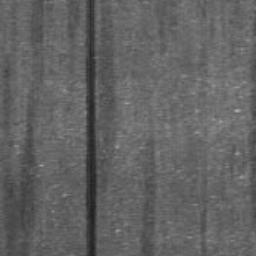Scratches: (85, 0, 97, 256)
